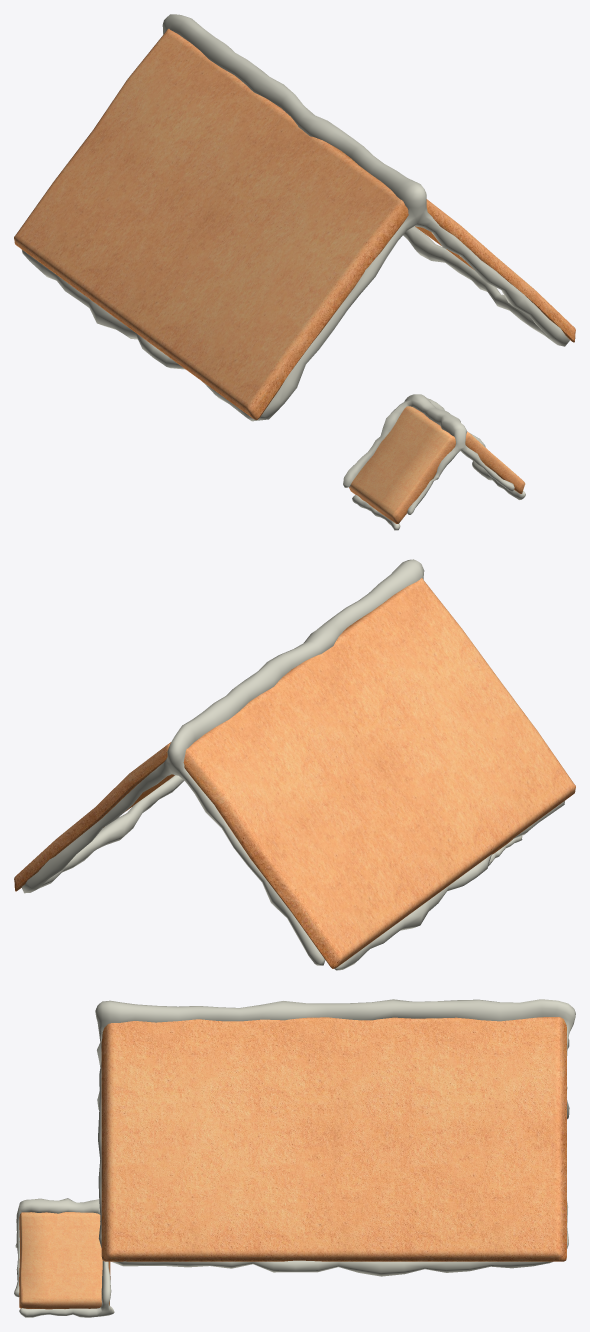
Rendered from Base_Roof.glb.
3 views of the same model, one above another, from view 1: azimuth 30°, elevation 25°; view 2: azimuth 150°, elevation 25°; view 3: azimuth 270°, elevation 25° (orthographic). The views are drawn at different scales.
Visible parts, largest first — view 1: Big_Roof, Big_Roof_Piping, Small_Roof, Small_Roof_Piping; view 2: Big_Roof, Big_Roof_Piping; view 3: Big_Roof, Big_Roof_Piping, Small_Roof, Small_Roof_Piping.
Boxes of the visible parts, left/top/right/bottom form: Big_Roof: left=14, top=28, right=575, bottom=419; Big_Roof_Piping: left=21, top=14, right=569, bottom=421; Small_Roof: left=349, top=406, right=525, bottom=523; Small_Roof_Piping: left=343, top=394, right=525, bottom=530; Big_Roof: left=14, top=578, right=575, bottom=968; Big_Roof_Piping: left=21, top=559, right=564, bottom=970; Big_Roof: left=101, top=1017, right=566, bottom=1261; Big_Roof_Piping: left=95, top=999, right=575, bottom=1276; Small_Roof: left=19, top=1212, right=110, bottom=1309; Small_Roof_Piping: left=14, top=1198, right=114, bottom=1317.
Size of the model in its own units: 0.0941 by 0.0826 by 0.1457.
3 materials, 2 textured.
